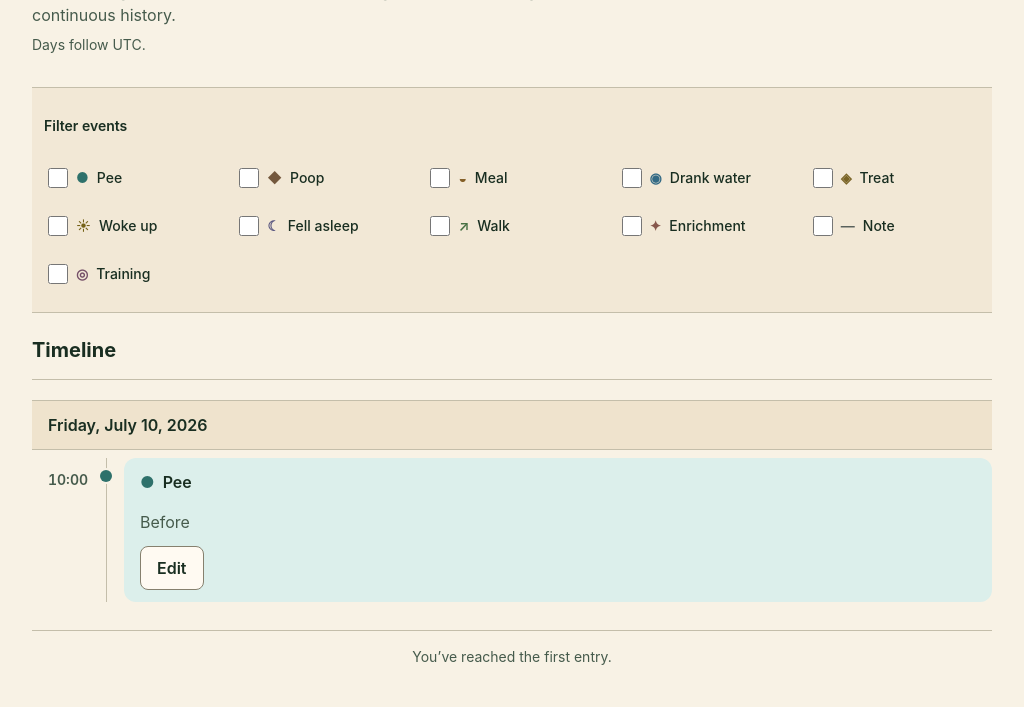
TimelinePage › edits a timeline entry with the shared event editor
(page scrolled)
Click the button with aria-label "Edit Pee at 10:00": x=172, y=568 x1=140 y1=546 x2=204 y2=590
(page scrolled)
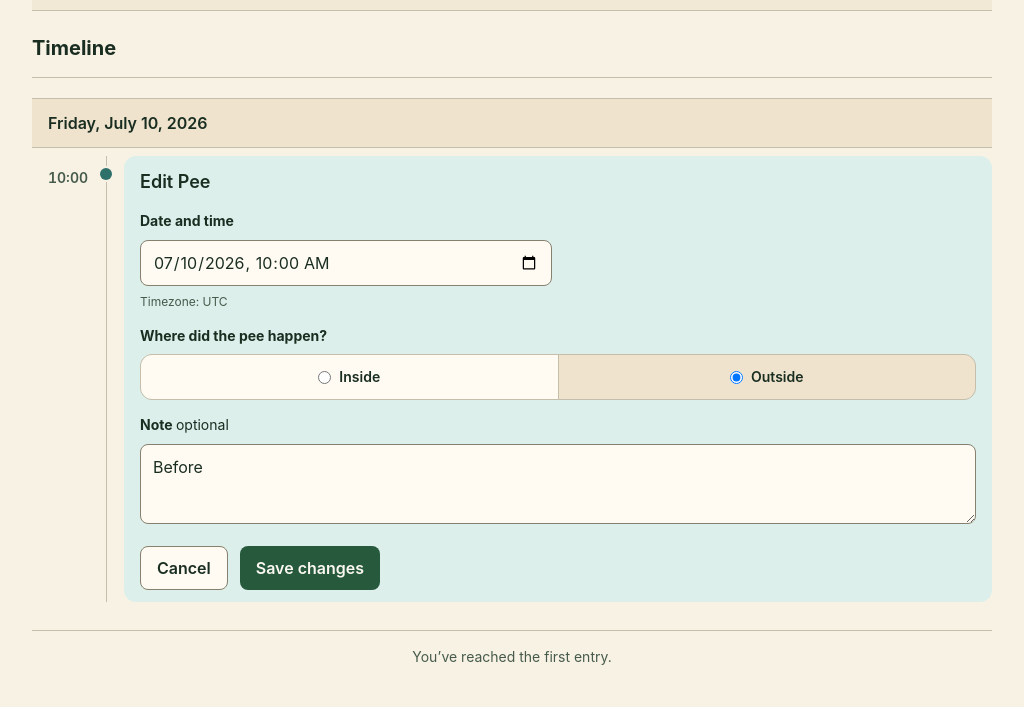
Replace the text in the text box labelled "Note optional" with "After": x=558, y=484 x1=140 y1=444 x2=976 y2=524
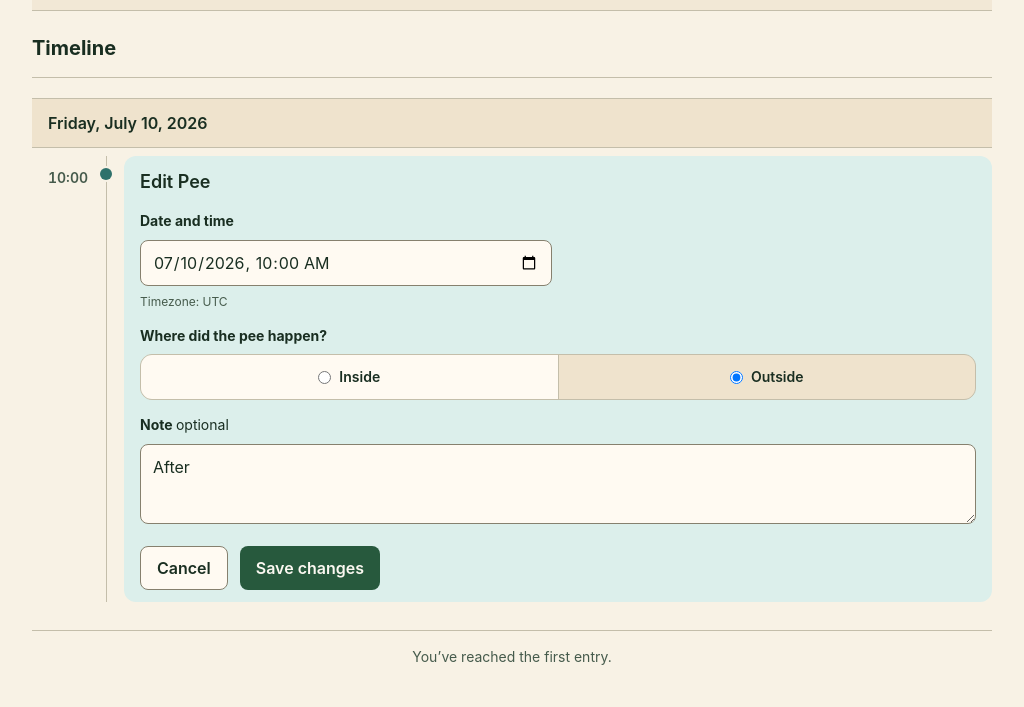
Click the button "Save changes": x=310, y=568 x1=240 y1=546 x2=380 y2=590
(page scrolled)
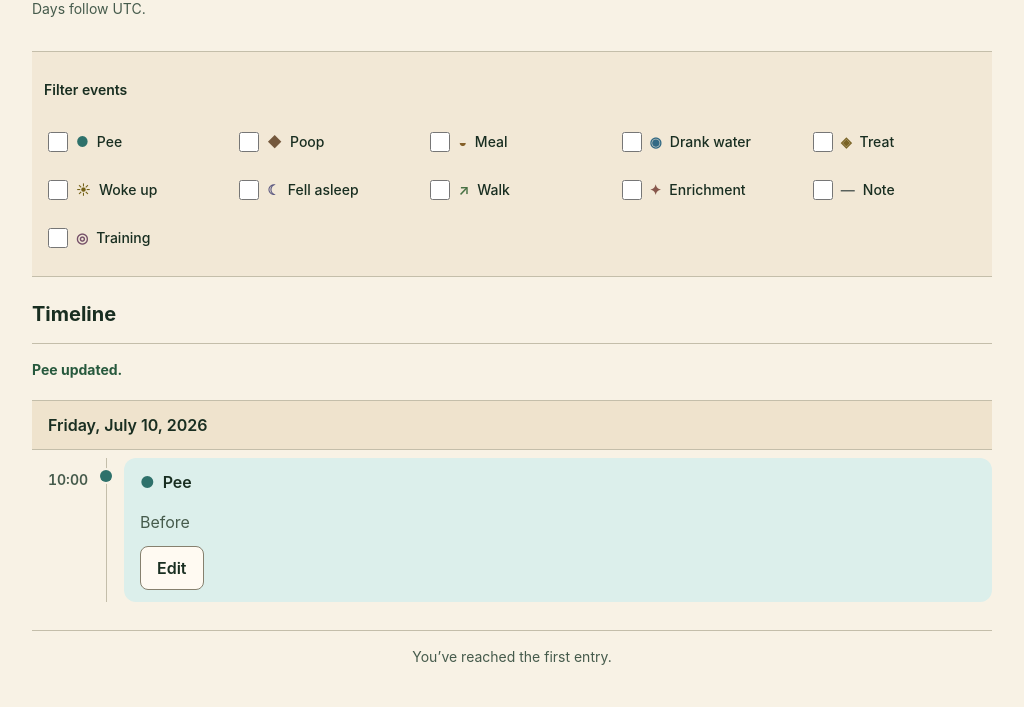
Result: the message reads "Pee updated." at x1=32 y1=361 x2=122 y2=378
